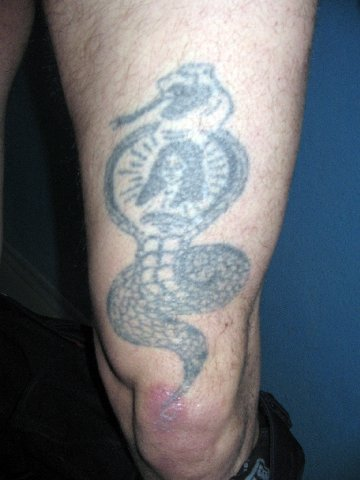tatu7_zmeya: (91, 55, 248, 393)
